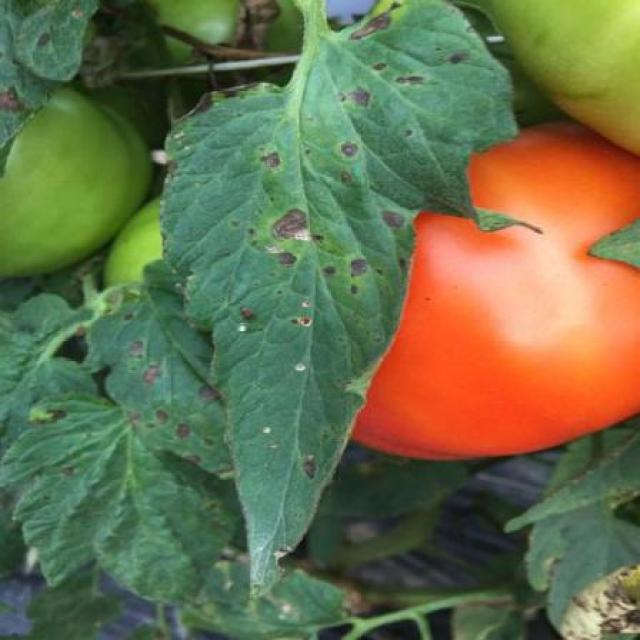Early Blight: (158, 0, 526, 593)
